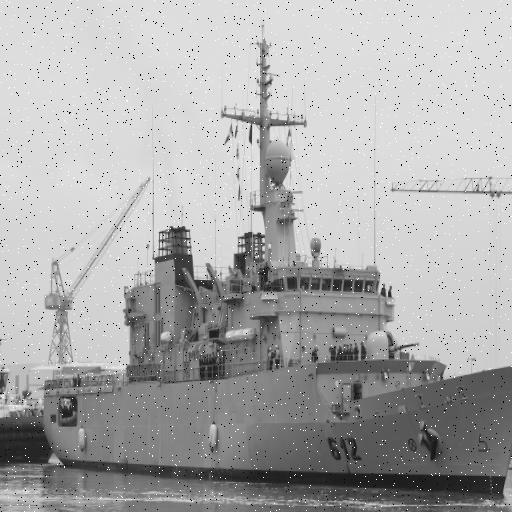Fragata: (41, 16, 512, 505)
